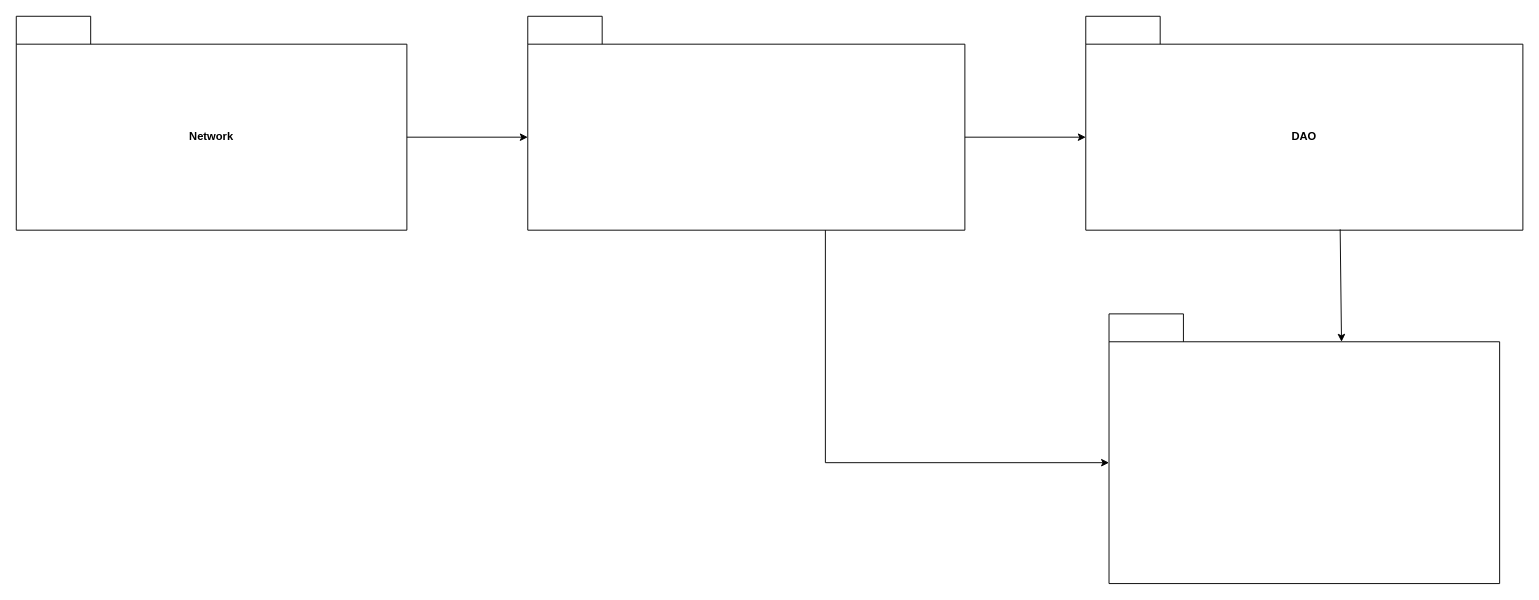
This 1539x600 diagram has some shape labels left out. The centre of each missing label's shape, as x and y in pixels:
"Logic" goes at point 1304,448.
"Service" goes at point 746,122.
